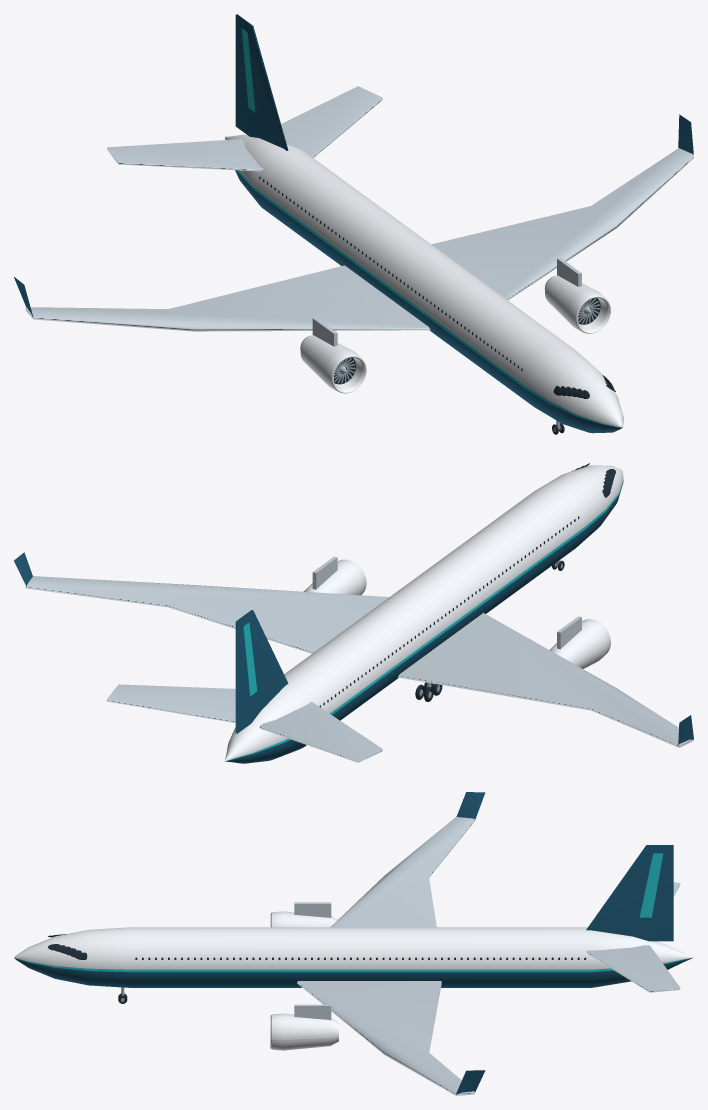
3 views of the same model, one above another, from view 1: azimuth 30°, elevation 25°; view 2: azimuth 150°, elevation 25°; view 3: azimuth 270°, elevation 25° (orthographic). The views are drawn at different scales.
Visible parts, largest first — view 1: Fuselage_white, WingRight_wing, WingLeft_wing, Fuselage_paint, VerticalTail_paint, HorizontalTailRight_wing, HorizontalTailLeft_wing, EngineRight_white, EngineLeft_white, Fuselage_accent; view 2: Fuselage_white, WingRight_wing, WingLeft_wing, Fuselage_paint, VerticalTail_paint, HorizontalTailRight_wing, HorizontalTailLeft_wing, EngineRight_white, EngineLeft_white, Fuselage_accent, VerticalTail_accent, EngineLeft_wing (+1 smaller); view 3: Fuselage_white, WingLeft_wing, Fuselage_paint, WingRight_wing, VerticalTail_paint, HorizontalTailLeft_wing, Fuselage_accent, EngineLeft_white, EngineRight_white, VerticalTail_accent, EngineLeft_wing, EngineRight_wing (+1 smaller).
Boxes of the visible parts, x1,y1,x2,y2 form: Fuselage_white: [225, 134, 623, 427]; WingRight_wing: [25, 265, 430, 331]; WingLeft_wing: [431, 148, 693, 300]; Fuselage_paint: [235, 170, 622, 433]; VerticalTail_paint: [235, 14, 288, 150]; HorizontalTailRight_wing: [107, 139, 263, 171]; HorizontalTailLeft_wing: [281, 86, 382, 157]; EngineRight_white: [300, 335, 366, 393]; EngineLeft_white: [544, 275, 610, 333]; Fuselage_accent: [237, 170, 620, 427]; Fuselage_white: [224, 465, 623, 761]; WingRight_wing: [397, 613, 693, 747]; WingLeft_wing: [25, 576, 389, 653]; Fuselage_paint: [225, 481, 623, 763]; VerticalTail_paint: [235, 610, 288, 733]; HorizontalTailRight_wing: [259, 701, 382, 762]; HorizontalTailLeft_wing: [107, 684, 235, 722]; EngineRight_white: [550, 619, 610, 668]; EngineLeft_white: [304, 559, 366, 595]; Fuselage_accent: [228, 480, 623, 760]; VerticalTail_accent: [243, 622, 257, 695]; EngineLeft_wing: [312, 556, 337, 589]; Fuselage_white: [14, 927, 693, 969]; WingLeft_wing: [297, 981, 474, 1095]; Fuselage_paint: [14, 957, 693, 987]; WingRight_wing: [330, 817, 474, 927]; VerticalTail_paint: [586, 845, 673, 941]; HorizontalTailLeft_wing: [586, 945, 680, 992]; Fuselage_accent: [15, 958, 689, 972]; EngineLeft_white: [270, 1013, 338, 1050]; EngineRight_white: [270, 911, 337, 927]; VerticalTail_accent: [639, 853, 663, 917]; EngineLeft_wing: [294, 1004, 331, 1019]; EngineRight_wing: [294, 902, 331, 917].
Size of the model in its own units: 64.75 by 17.05 by 66.8.
